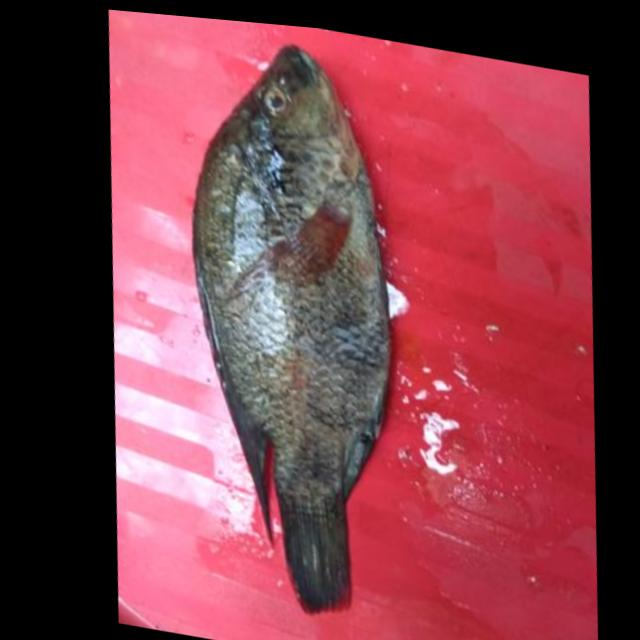Tilapia: (136, 20, 441, 634)
